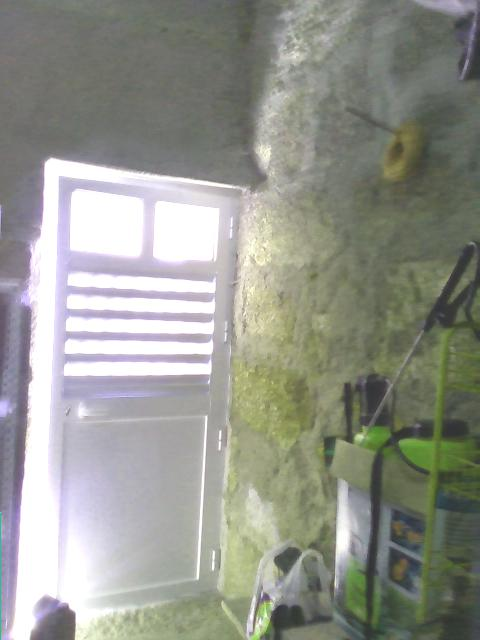closed_door: (46, 173, 245, 616)
